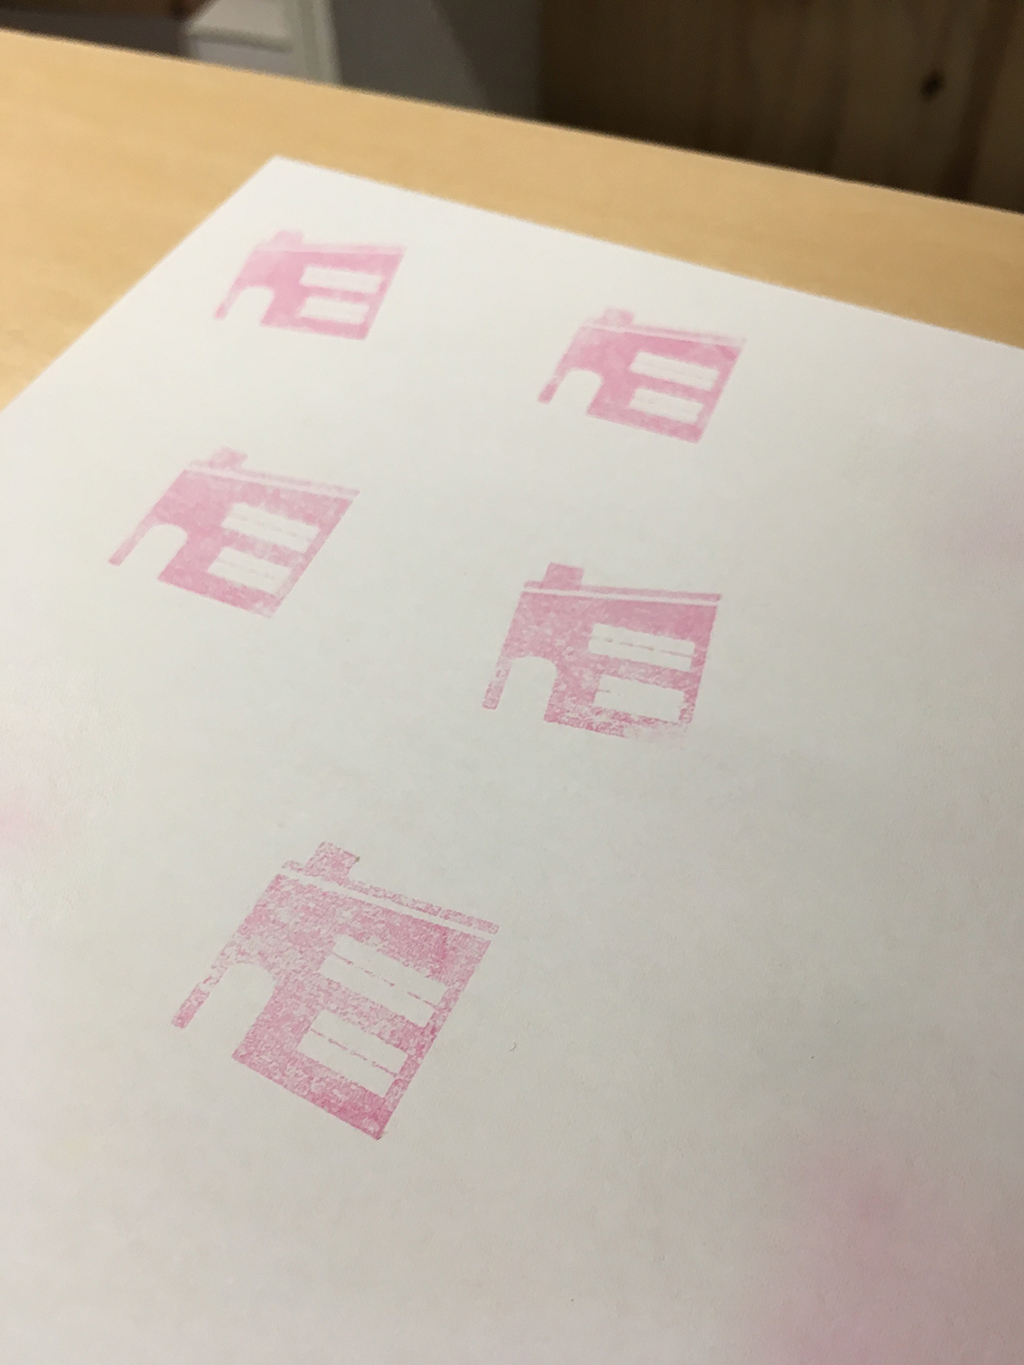house: (167, 823, 520, 1169), (102, 417, 374, 639), (475, 554, 735, 766), (520, 285, 758, 456), (205, 212, 423, 356)
